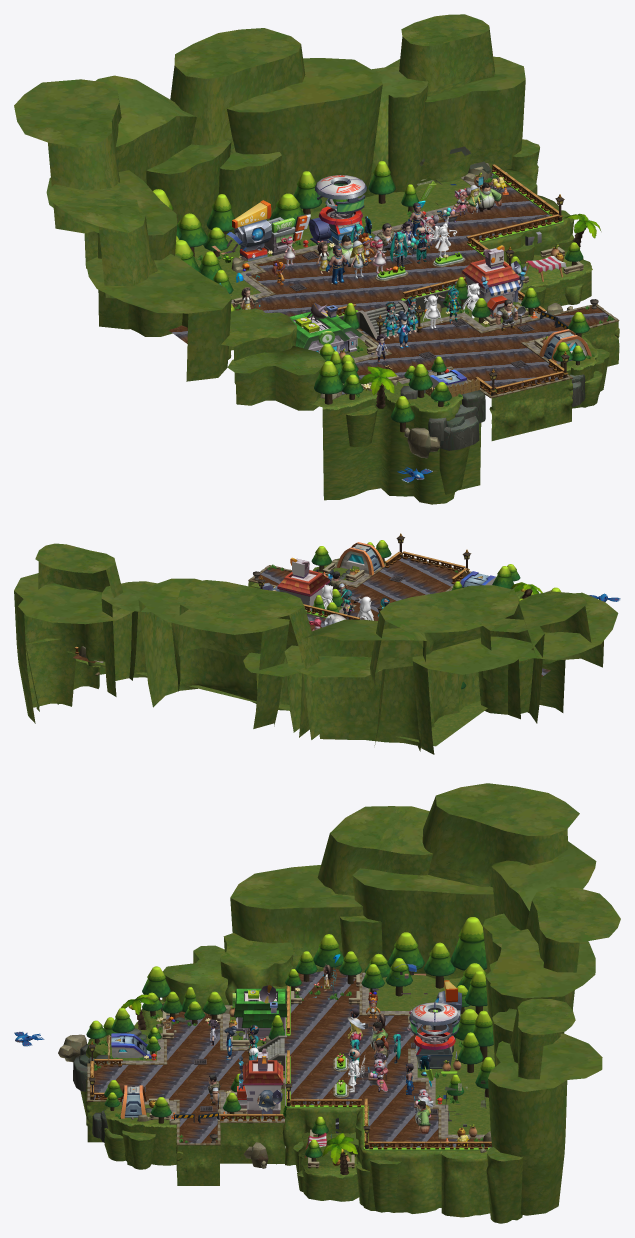
File: 03_03_Dan_Cu_Va_NPC_1.glb
3 renders of one model, top to bottom at view 1: azimuth 30°, elevation 25°; view 2: azimuth 150°, elevation 25°; view 3: azimuth 270°, elevation 25°, orthographic. The views are drawn at different scales.
Parts seen in each view (by area): view 1: 03_03_Dan_Cu_Va_NPC_1; view 2: 03_03_Dan_Cu_Va_NPC_1; view 3: 03_03_Dan_Cu_Va_NPC_1.
Part boxes in pixels (box(x1,y1,x2,y2)): 03_03_Dan_Cu_Va_NPC_1: box(14, 14, 619, 504); 03_03_Dan_Cu_Va_NPC_1: box(14, 533, 620, 754); 03_03_Dan_Cu_Va_NPC_1: box(14, 783, 620, 1223).
Bounding box in the file's own units: 98.04 × 46.38 × 101.
63 materials, 60 textured.
